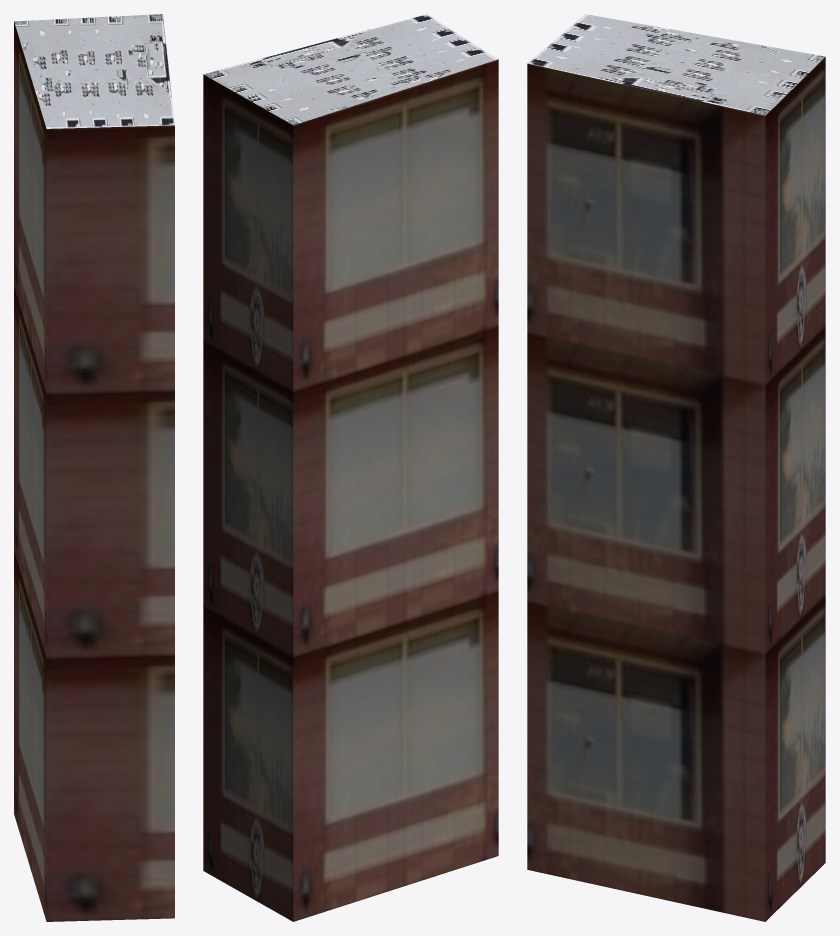
File: ResTex__4197.fbx
3 views of the same model, side by side, from view 1: azimuth 30°, elevation 25°; view 2: azimuth 150°, elevation 25°; view 3: azimuth 270°, elevation 25° (orthographic).
Parts seen in each view (by area): view 1: CityEngineMaterial_13_m, CityEngineMaterial_m; view 2: CityEngineMaterial_13_m, CityEngineMaterial_m; view 3: CityEngineMaterial_13_m, CityEngineMaterial_m.
Part boxes in pixels (bbox=[...]): CityEngineMaterial_13_m: bbox=[14, 21, 174, 921]; CityEngineMaterial_m: bbox=[14, 14, 174, 128]; CityEngineMaterial_13_m: bbox=[203, 59, 498, 921]; CityEngineMaterial_m: bbox=[204, 14, 497, 125]; CityEngineMaterial_13_m: bbox=[527, 57, 825, 921]; CityEngineMaterial_m: bbox=[527, 14, 824, 115].
Size of the model in its own units: 2.44 by 9 by 3.02.
2 materials, 2 textured.
